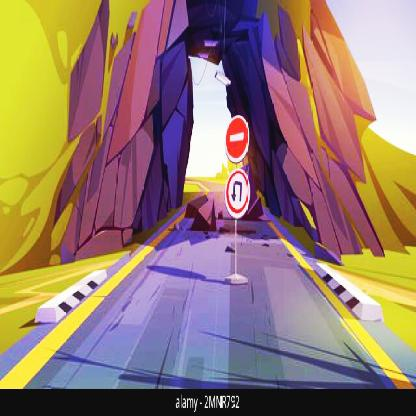U-turn: (226, 166, 250, 217)
